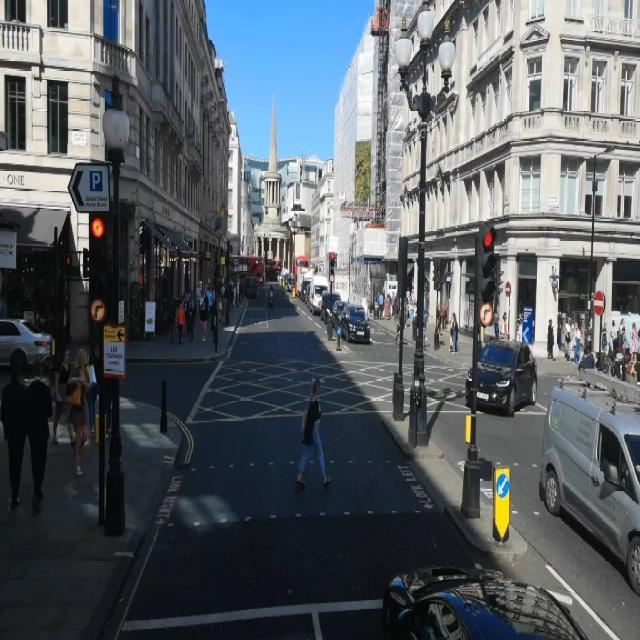pedestrian: (297, 380, 330, 484)
